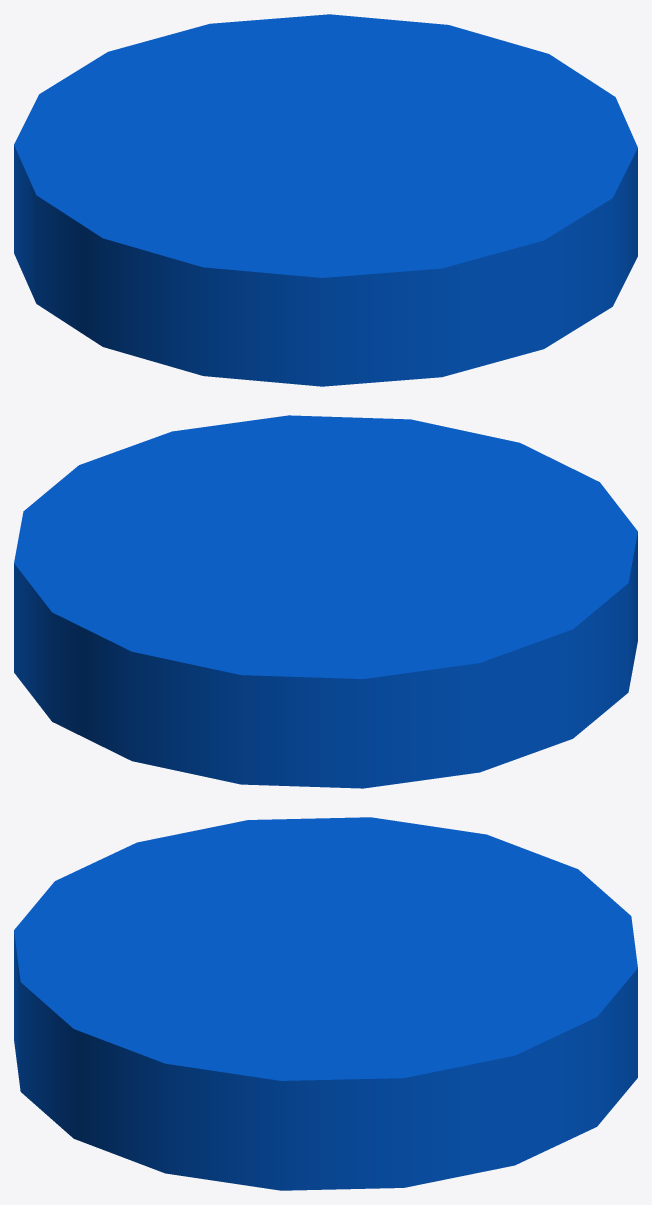
File: FemaleSocket.FBX
3 views of the same model, one above another, from view 1: azimuth 30°, elevation 25°; view 2: azimuth 150°, elevation 25°; view 3: azimuth 270°, elevation 25° (orthographic).
Parts seen in each view (by area): view 1: Cylinder001; view 2: Cylinder001; view 3: Cylinder001.
Boxes of the visible parts, box(x1,y1,x2,y2) form: Cylinder001: box(14, 14, 637, 386); Cylinder001: box(14, 415, 637, 788); Cylinder001: box(14, 817, 637, 1190).
Bounding box in the file's own units: 3.96 × 0.7687 × 3.96.
